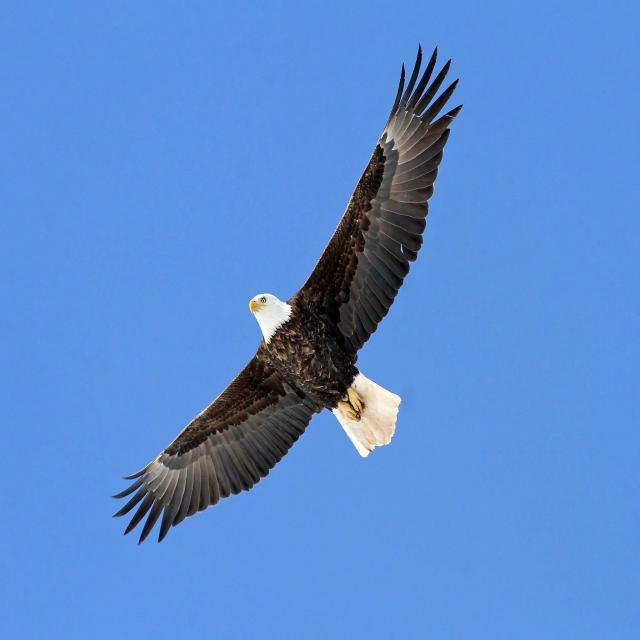eagle: (113, 50, 461, 542)
